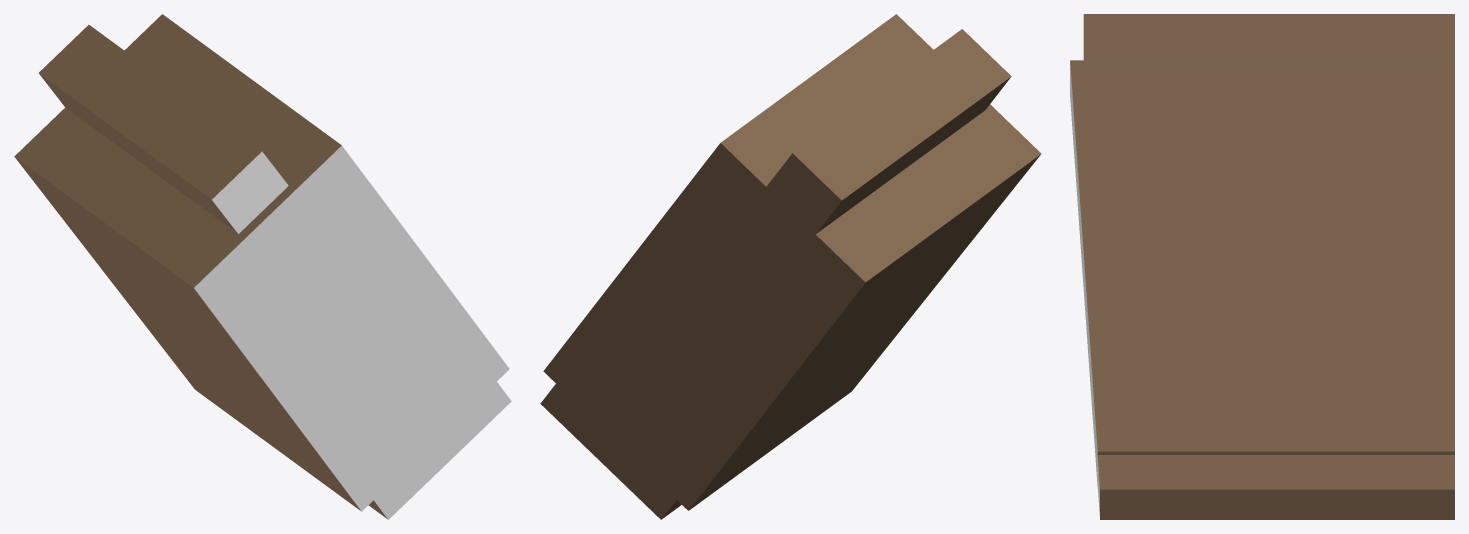
3 renders of one model, left to right at view 1: azimuth 30°, elevation 25°; view 2: azimuth 150°, elevation 25°; view 3: azimuth 270°, elevation 25°, orthographic. The views are drawn at different scales.
Parts seen in each view (by area): view 1: City_1884817; view 2: City_1884817; view 3: City_1884817.
Part boxes in pixels (bbox=[...]): City_1884817: bbox=[14, 14, 511, 519]; City_1884817: bbox=[540, 14, 1041, 519]; City_1884817: bbox=[1070, 14, 1454, 519].
Size of the model in its own units: 1407 by 1648 by 1318.
